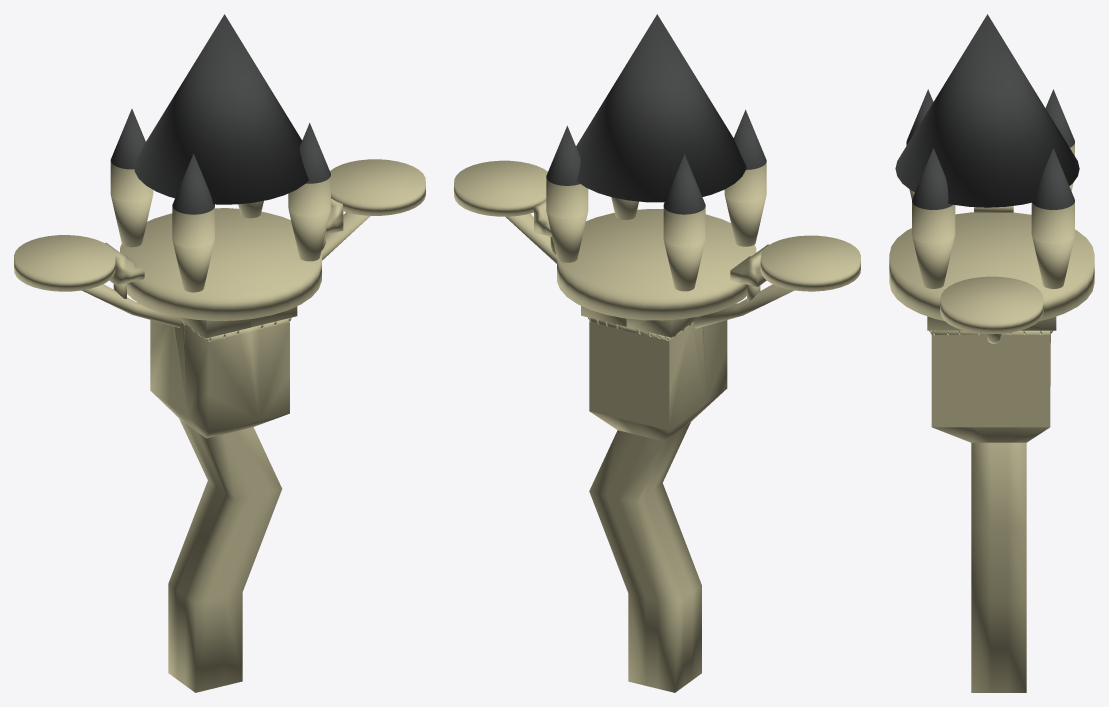
Rendered from Torres 4.fbx.
The picture shows the model from 3 angles, left to right: view 1: azimuth 30°, elevation 25°; view 2: azimuth 150°, elevation 25°; view 3: azimuth 270°, elevation 25°; orthographic projection. The views are drawn at different scales.
Visible parts, largest first — view 1: Torre Abajo, Techo, Torre Abajo 2, Piso, Torres Arriba, Piso.002, Piso.001, Soporte Piso 002, Soporte Piso 001, Escalera 001; view 2: Torre Abajo, Techo, Torre Abajo 2, Piso, Torres Arriba, Piso.002, Piso.001, Soporte Piso 002, Soporte Piso 001, Escalera 001; view 3: Techo, Torre Abajo, Torre Abajo 2, Piso, Torres Arriba, Piso.001.
Boxes of the visible parts, left/top/right/bottom form: Torre Abajo: left=168, top=419, right=282, bottom=692; Techo: left=134, top=14, right=308, bottom=204; Torre Abajo 2: left=150, top=306, right=297, bottom=438; Piso: left=120, top=208, right=321, bottom=320; Torres Arriba: left=110, top=109, right=330, bottom=292; Piso.002: left=14, top=235, right=115, bottom=291; Piso.001: left=330, top=159, right=425, bottom=215; Soporte Piso 002: left=82, top=283, right=181, bottom=327; Soporte Piso 001: left=321, top=212, right=370, bottom=260; Escalera 001: left=104, top=242, right=144, bottom=285; Torre Abajo: left=589, top=422, right=701, bottom=692; Techo: left=576, top=14, right=746, bottom=202; Torre Abajo 2: left=581, top=306, right=727, bottom=441; Piso: left=557, top=209, right=756, bottom=320; Torres Arriba: left=546, top=109, right=766, bottom=291; Piso.002: left=760, top=235, right=860, bottom=291; Piso.001: left=454, top=160, right=547, bottom=216; Soporte Piso 002: left=693, top=284, right=794, bottom=328; Soporte Piso 001: left=505, top=213, right=556, bottom=263; Escalera 001: left=730, top=244, right=769, bottom=286; Techo: left=895, top=14, right=1079, bottom=207; Torre Abajo: left=971, top=442, right=1026, bottom=692; Torre Abajo 2: left=927, top=316, right=1056, bottom=442; Piso: left=889, top=212, right=1094, bottom=320; Torres Arriba: left=906, top=89, right=1074, bottom=288; Piso.001: left=940, top=276, right=1043, bottom=334.
Size of the model in its own units: 1444 by 2300 by 635.
